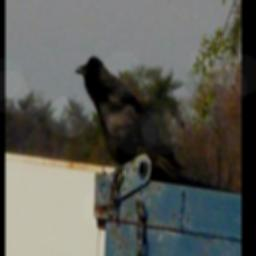Crow: (74, 53, 181, 178)
